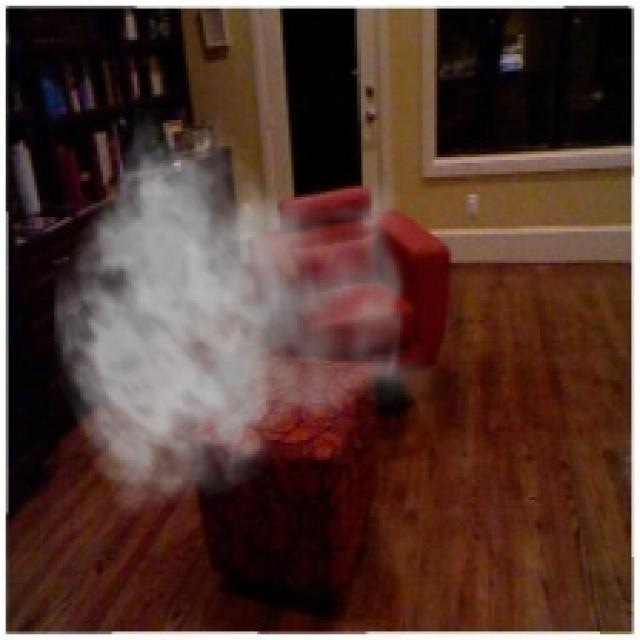smoke: (51, 109, 440, 517)
